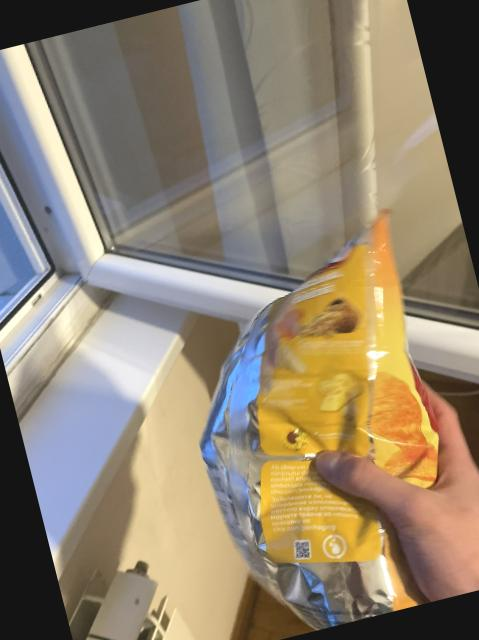Chio Cascaval 125g: (159, 219, 479, 640)
